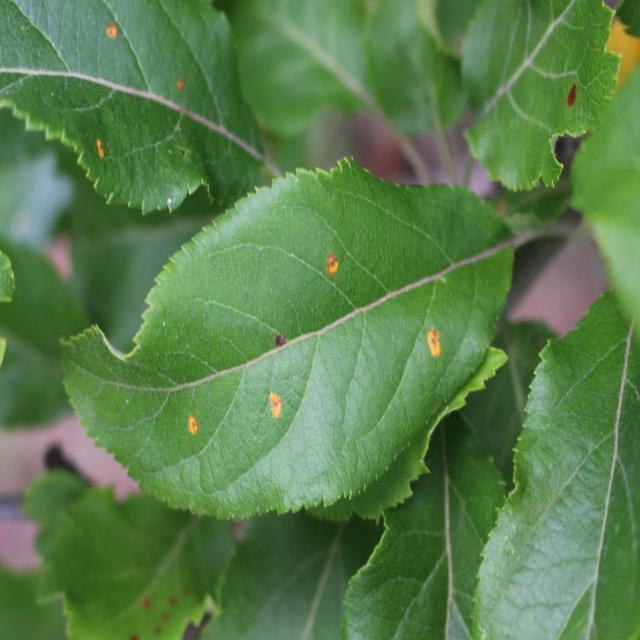Rust: (262, 372, 299, 448), (415, 310, 449, 380), (552, 69, 588, 129), (86, 117, 120, 174), (176, 398, 210, 449), (317, 234, 343, 297), (100, 12, 130, 58), (161, 69, 196, 106)
